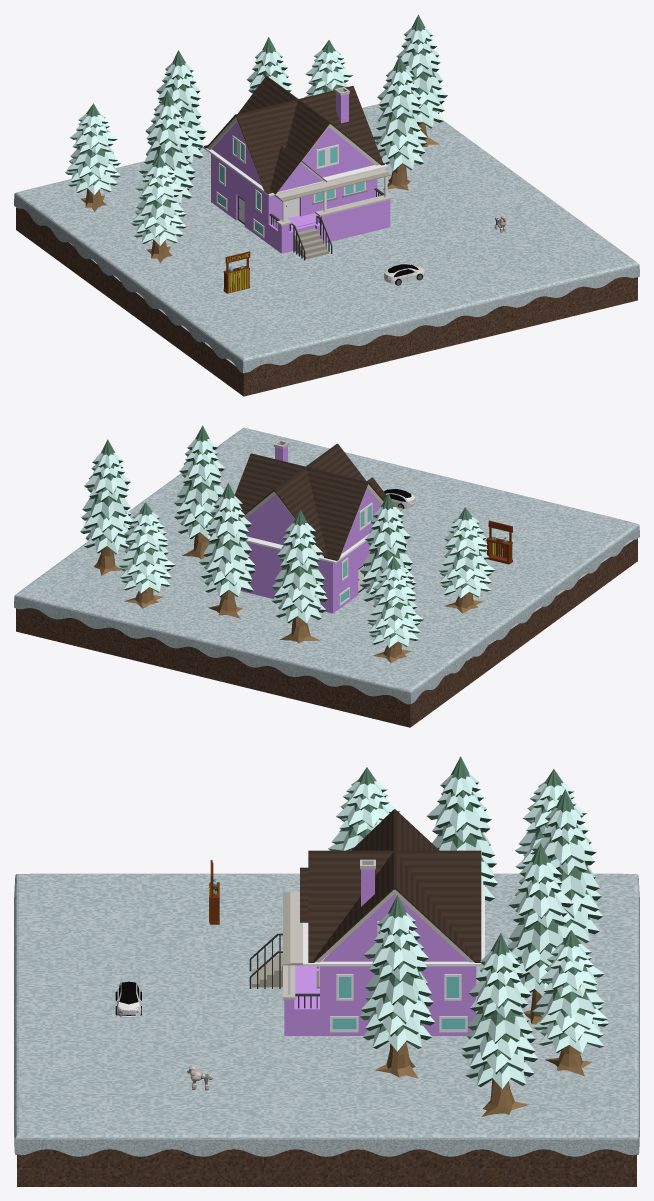
3 renders of one model, top to bottom at view 1: azimuth 30°, elevation 25°; view 2: azimuth 150°, elevation 25°; view 3: azimuth 270°, elevation 25°, orthographic. The views are drawn at different scales.
Parts seen in each view (by area): view 1: Cube.003, Cube.391, OBJRANDOM_LEMONADE_STAND, VEHICLES_TESLA; view 2: Cube.003, Cube.391, OBJRANDOM_LEMONADE_STAND, VEHICLES_TESLA; view 3: Cube.003, Cube.391, VEHICLES_TESLA.
Boxes of the visible parts, x1=… form: Cube.003: x1=14, y1=14, x2=639, y2=396; Cube.391: x1=202, y1=76, x2=393, y2=260; OBJRANDOM_LEMONADE_STAND: x1=223, y1=251, x2=250, y2=293; VEHICLES_TESLA: x1=384, y1=264, x2=424, y2=285; Cube.003: x1=14, y1=425, x2=639, y2=727; Cube.391: x1=235, y1=440, x2=405, y2=613; OBJRANDOM_LEMONADE_STAND: x1=486, y1=520, x2=512, y2=564; VEHICLES_TESLA: x1=383, y1=489, x2=415, y2=508; Cube.003: x1=14, y1=756, x2=639, y2=1186; Cube.391: x1=249, y1=809, x2=484, y2=1035; VEHICLES_TESLA: x1=115, y1=981, x2=141, y2=1017.
Size of the model in its own units: 4040 by 1692 by 4040.
34 materials, 3 textured.
